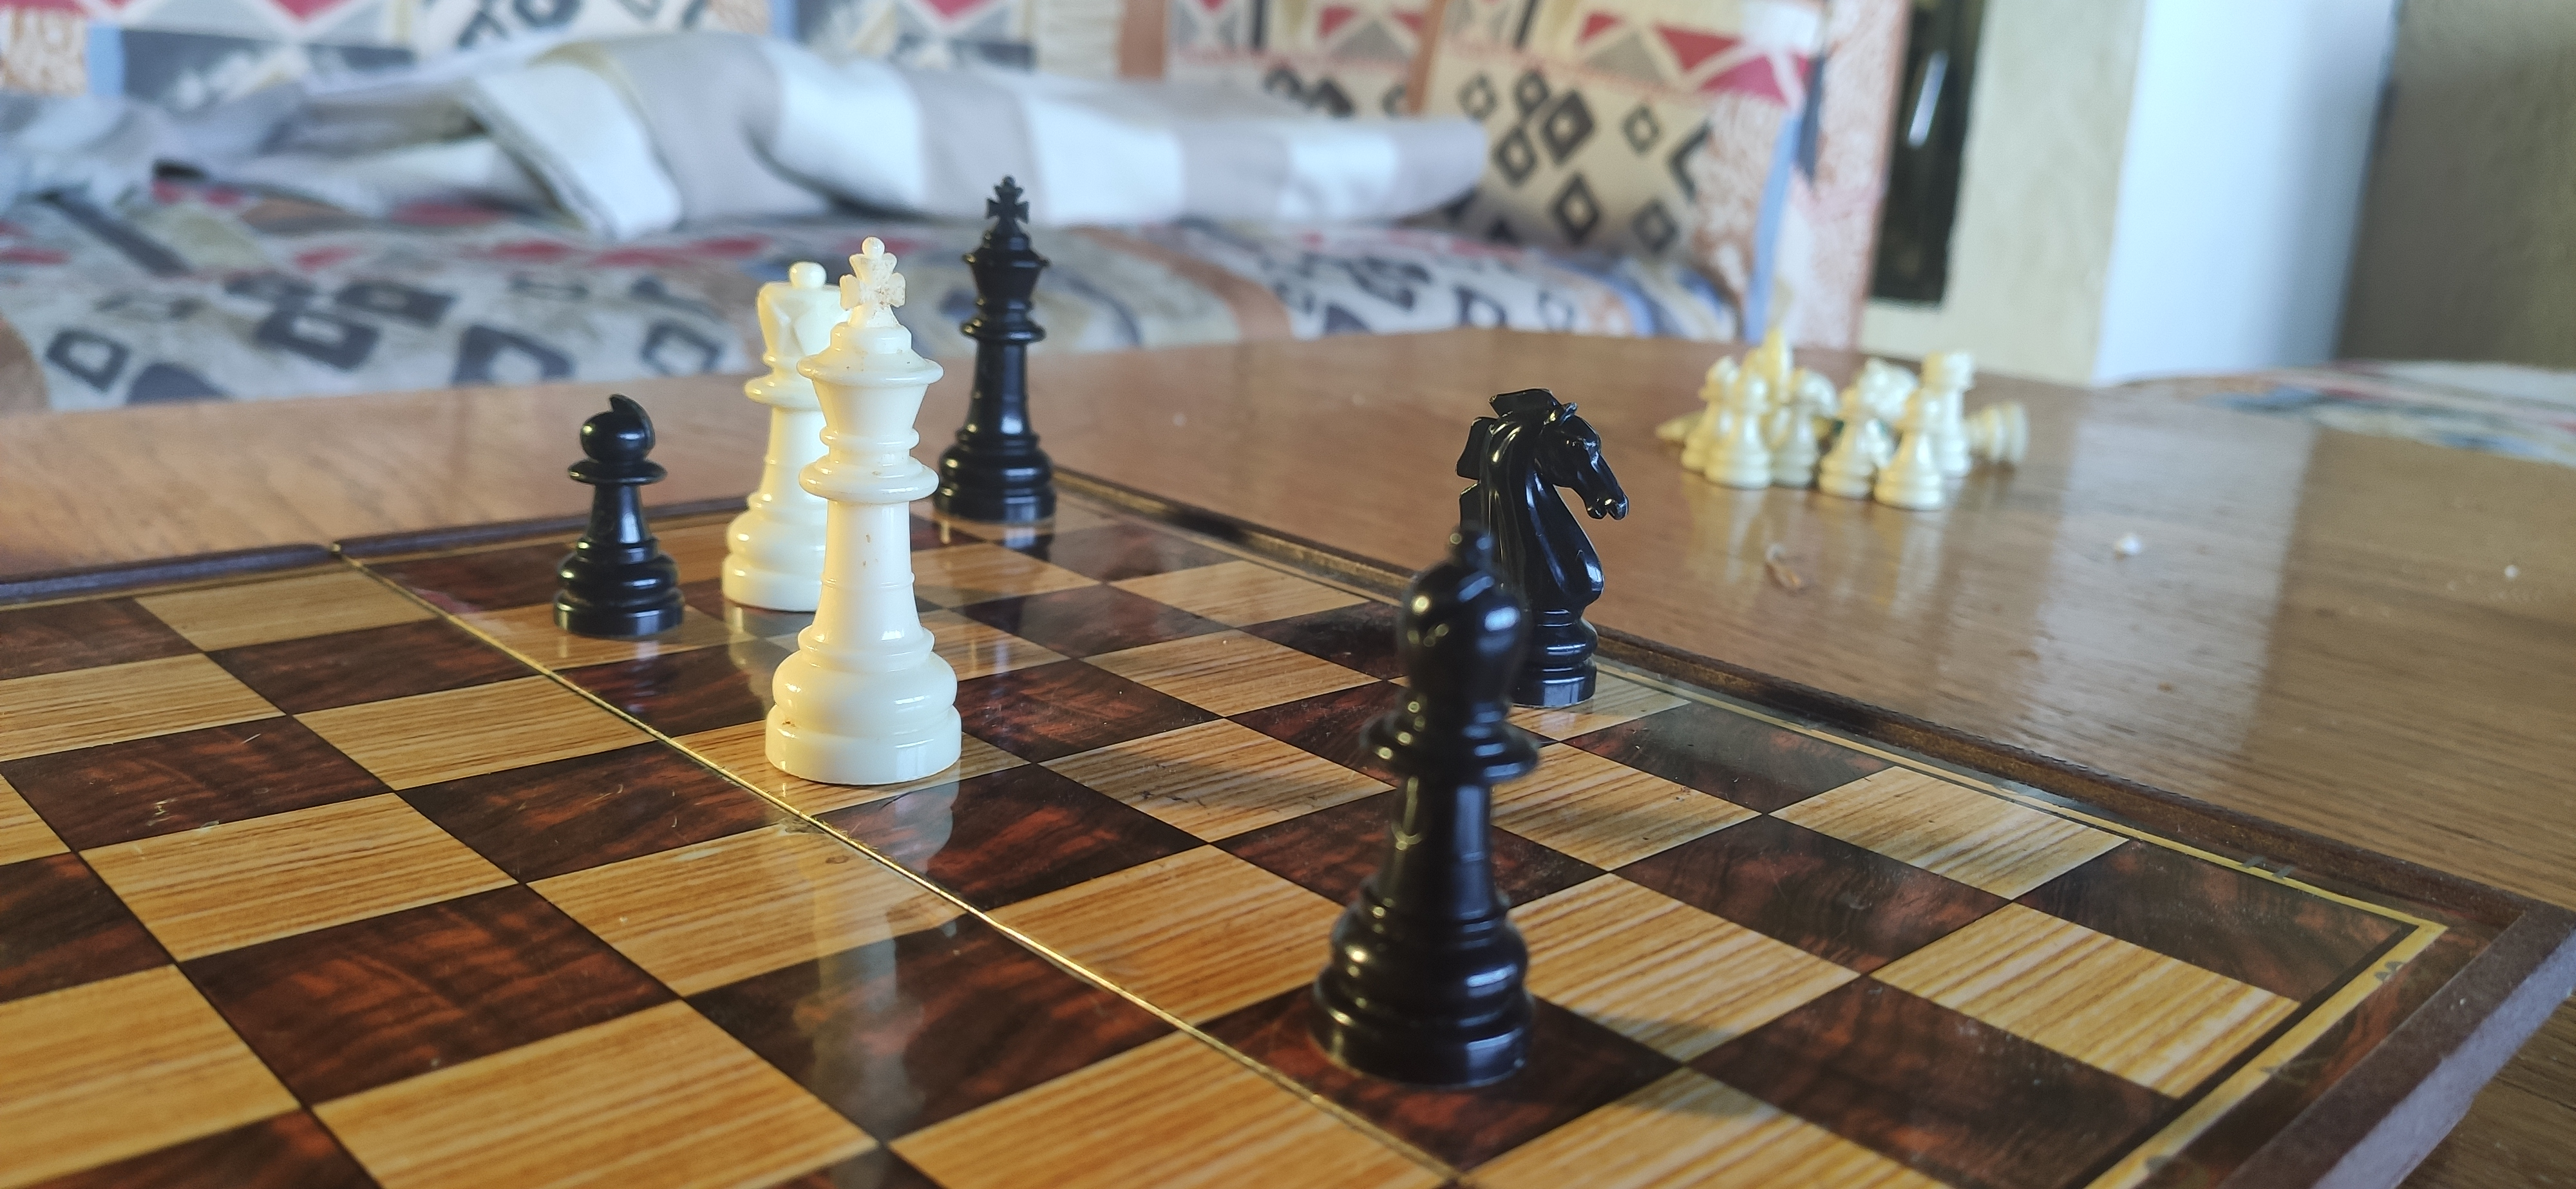BB: (1318, 516, 1546, 1076)
BK: (931, 159, 1055, 522)
BN: (1449, 370, 1630, 700)
BP: (550, 388, 690, 636)
WK: (808, 227, 948, 792)
WQ: (729, 258, 841, 608)
